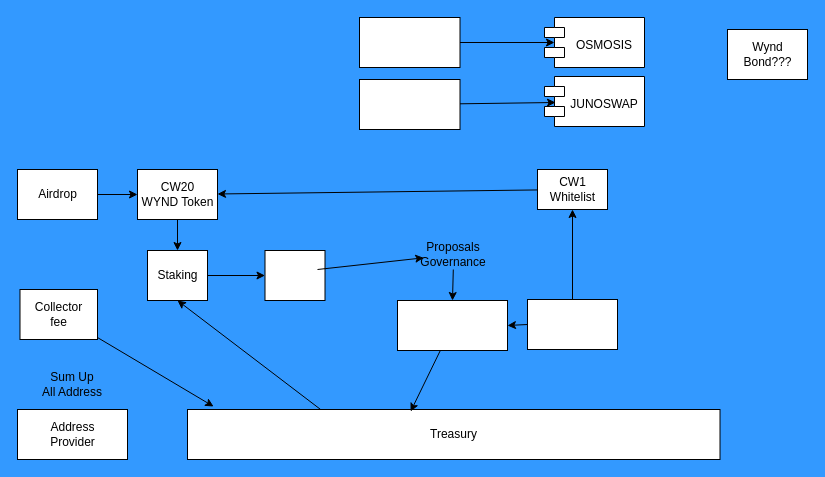
The diagram is 825 pixels wide and 477 high, and some of its shapes have lost their labels. The shapes that lost their labels are listed below. From the top down, each one's centre as x and y in pixels, then its label:
the point at 409,42: WYND-OSMO Pool
the point at 409,104: WYND-JUNO Pool
the point at 294,275: Vesting
the point at 452,325: Wynd DAO Governance CW3
the point at 572,324: Wynd Council
